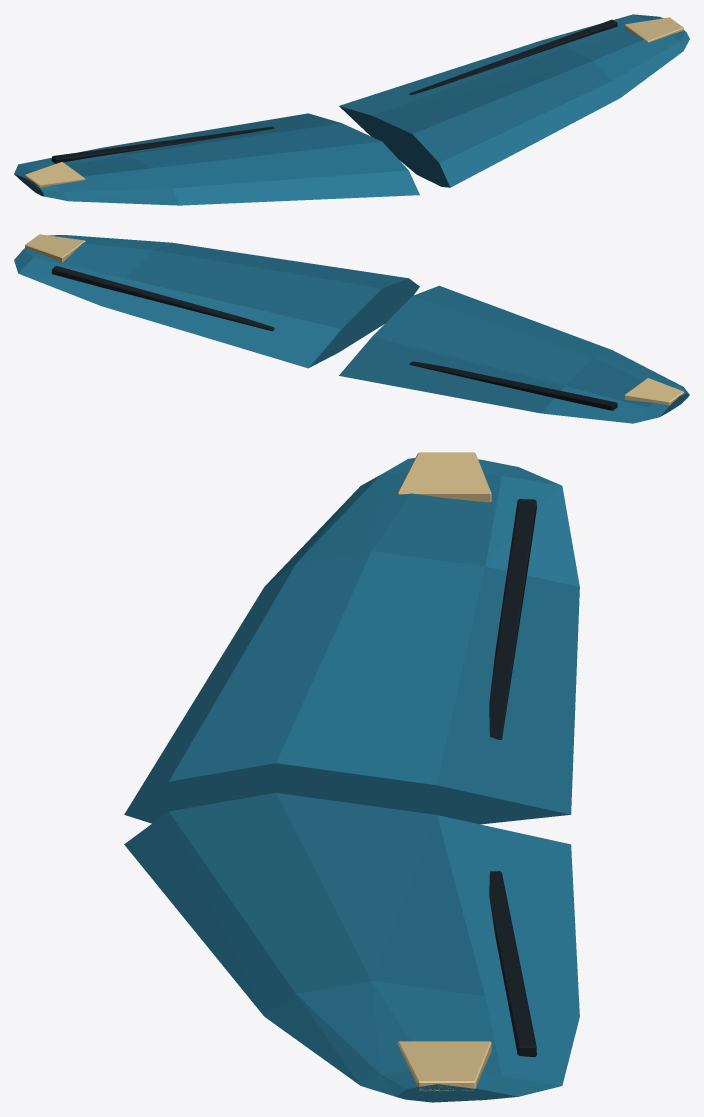
Rendered from EA_Tailplane.fbx.
3 views of the same model, one above another, from view 1: azimuth 30°, elevation 25°; view 2: azimuth 150°, elevation 25°; view 3: azimuth 270°, elevation 25° (orthographic). The views are drawn at different scales.
Visible parts, largest first — view 1: EA_Tailplane; view 2: EA_Tailplane; view 3: EA_Tailplane.
Part boxes in pixels (box(x1,y1,x2,y2)): EA_Tailplane: box(14, 14, 689, 205); EA_Tailplane: box(14, 234, 689, 423); EA_Tailplane: box(124, 452, 579, 1102).
Size of the model in its own units: 1.7 by 0.1092 by 0.52.
3 materials, 3 textured.
